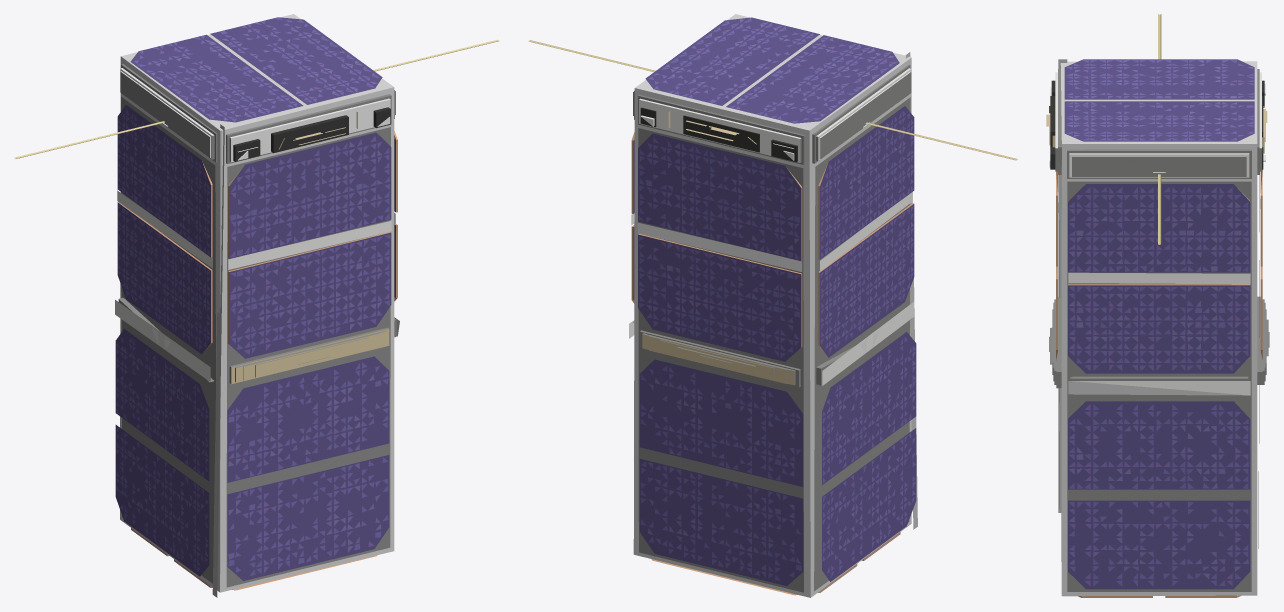
File: cubesat-2u-preview.glb
3 views of the same model, side by side, from view 1: azimuth 30°, elevation 25°; view 2: azimuth 150°, elevation 25°; view 3: azimuth 270°, elevation 25° (orthographic). The views are drawn at different scales.
Parts seen in each view (by area): view 1: Layer_0; view 2: Layer_0; view 3: Layer_0.
Part boxes in pixels (box(x1,y1,x2,y2)): Layer_0: box(14, 14, 498, 597); Layer_0: box(528, 14, 1017, 597); Layer_0: box(1046, 14, 1269, 597).
Size of the model in its own units: 5.39 by 4.99 by 2.21.
